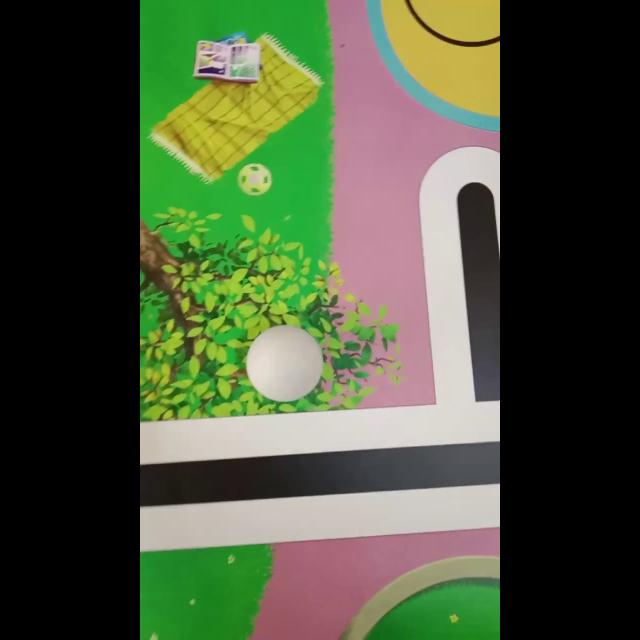white ball: (245, 324, 323, 402)
